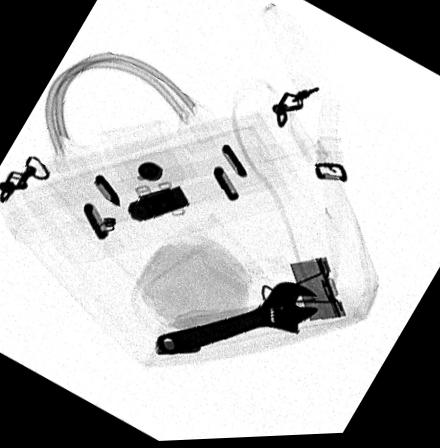Wrench: (154, 281, 320, 358)
